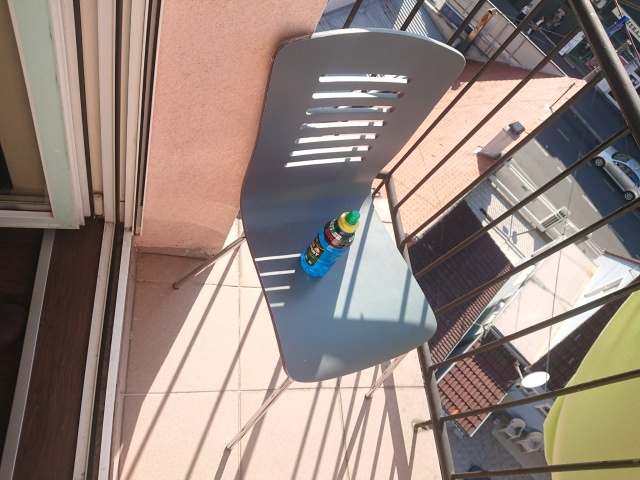Vindi Iso Sport Forest Strawberries 500mL: (298, 208, 360, 277)
